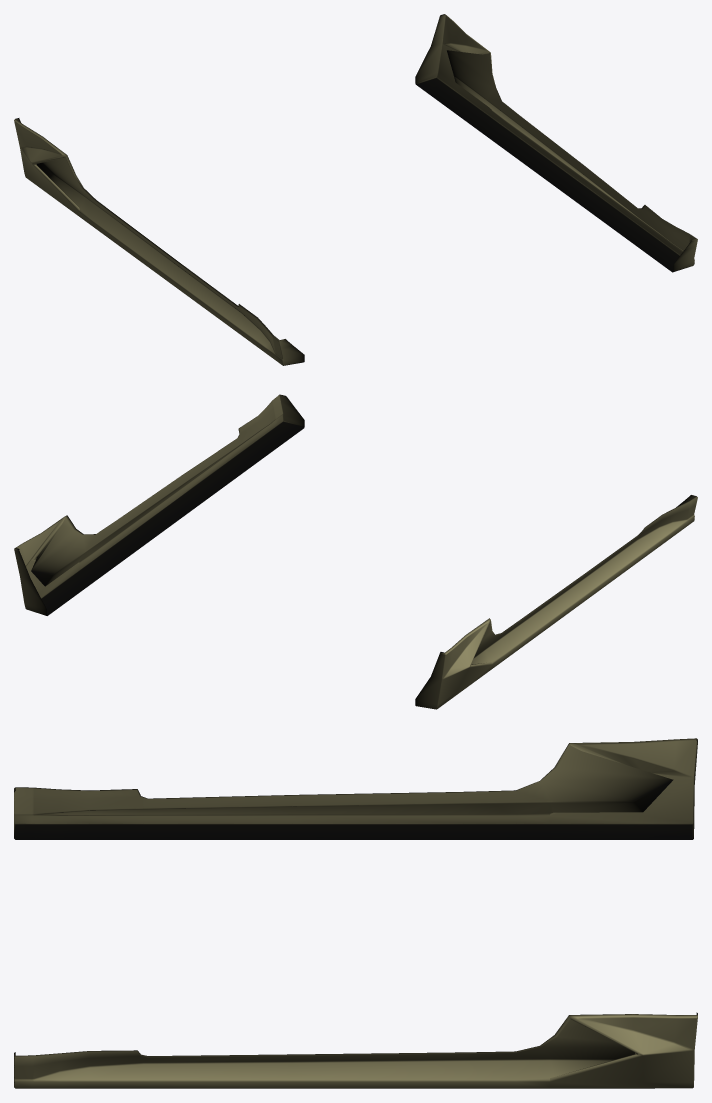
Rendered from Mustang16_Skirt_05_Duco.fbx.
The picture shows the model from 3 angles, top to bottom: view 1: azimuth 30°, elevation 25°; view 2: azimuth 150°, elevation 25°; view 3: azimuth 270°, elevation 25°; orthographic projection. The views are drawn at different scales.
Parts seen in each view (by area): view 1: Mustang16_Skirt_05_Duco; view 2: Mustang16_Skirt_05_Duco; view 3: Mustang16_Skirt_05_Duco.
Part boxes in pixels (x1,y1,x2,y2): Mustang16_Skirt_05_Duco: (14,14,697,365); Mustang16_Skirt_05_Duco: (14,394,697,709); Mustang16_Skirt_05_Duco: (14,738,697,1088).
Size of the model in its own units: 187 by 25.34 by 192.
